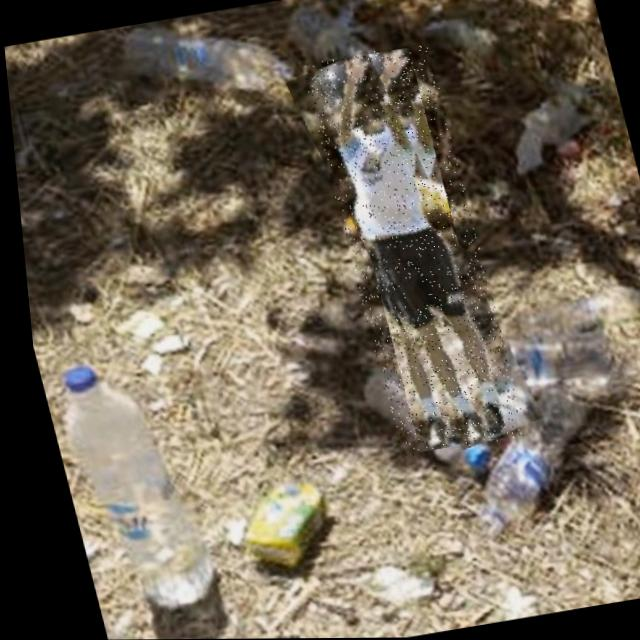Person in Rubble: (298, 43, 521, 458)
